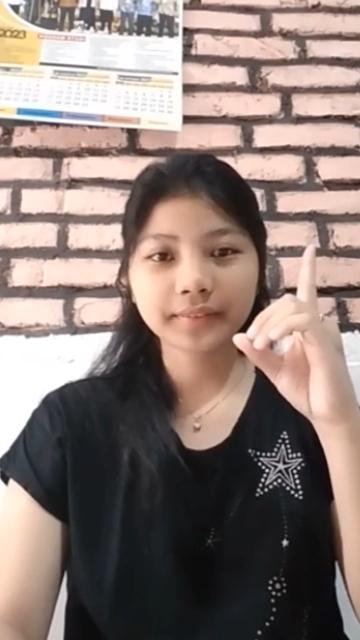D: (230, 238, 346, 427)
